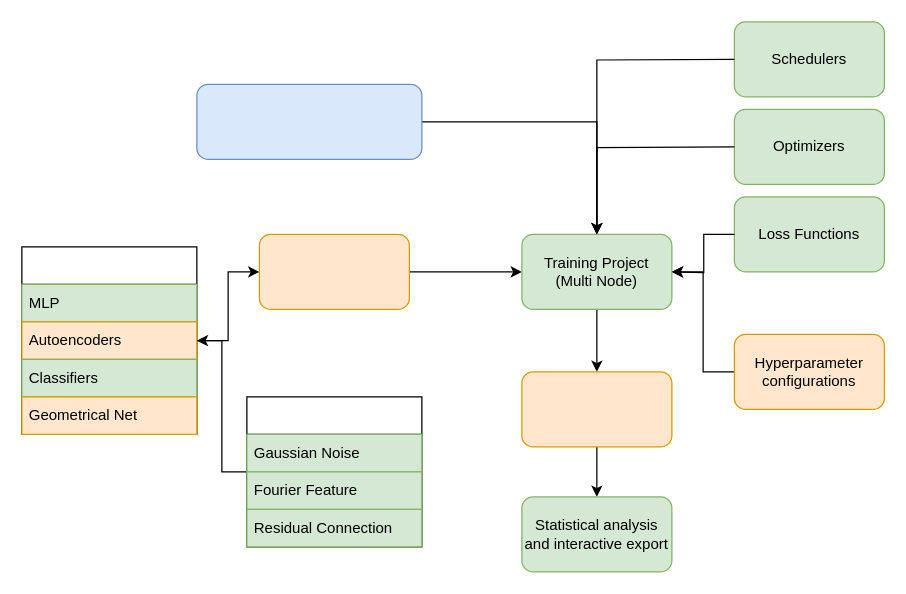
This 906x594 diagram has some shape labels left out. The box of each missing label's shape, as (x1, y1, x2, y2) in pixels:
Experiments: (521, 371, 672, 447)
Model Ensembles: (258, 233, 409, 309)
Models: (21, 246, 197, 434)
Processing layers: (246, 396, 422, 547)
Training: (196, 83, 422, 159)
